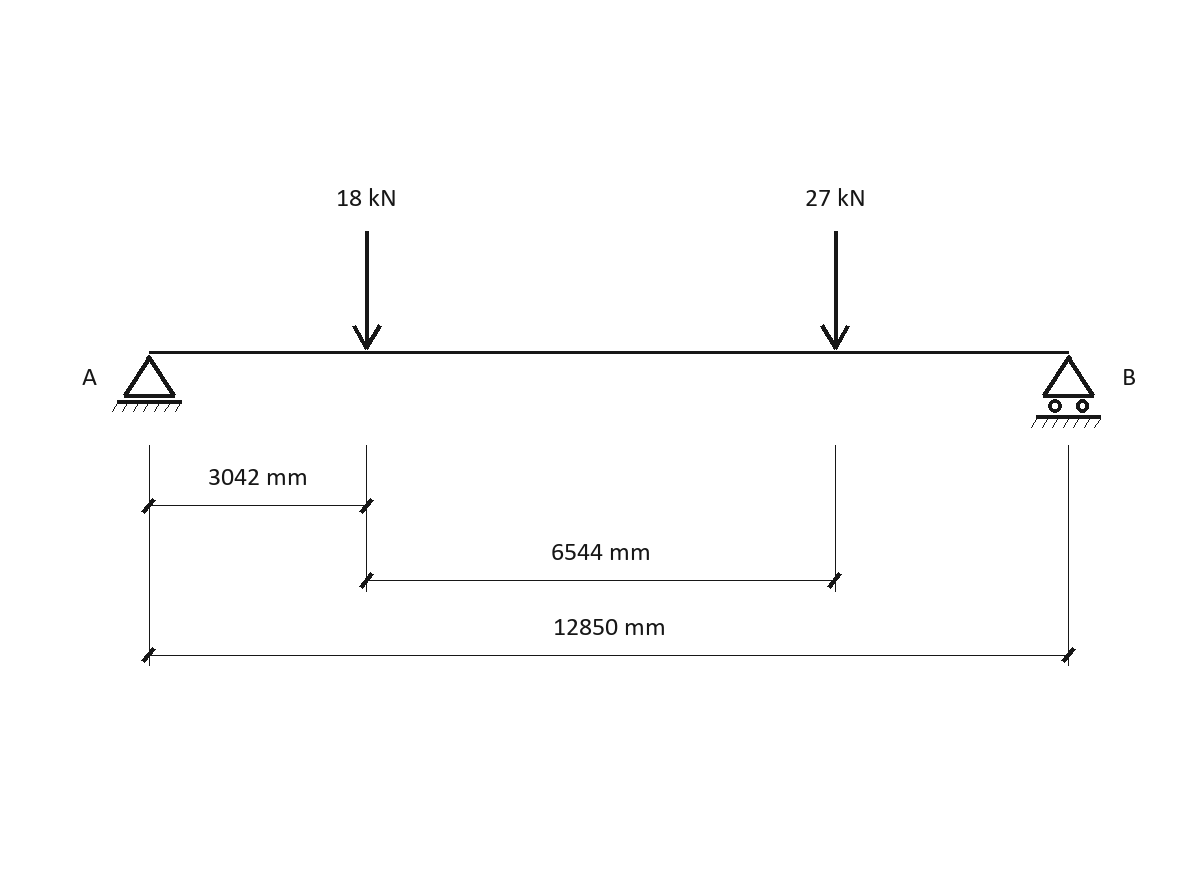pin_support: (112, 355, 182, 412)
point_load: (352, 231, 382, 350), (820, 231, 850, 350)
roller_support: (1031, 355, 1101, 428)
